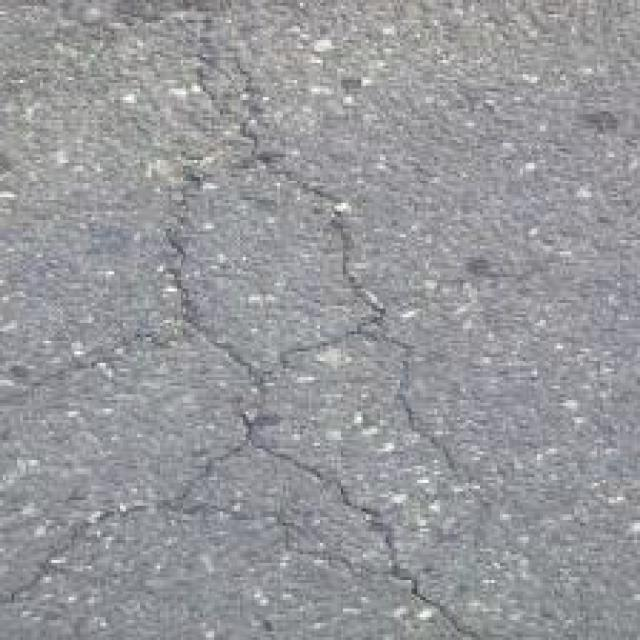SurfaceCrack: (130, 116, 498, 640)
